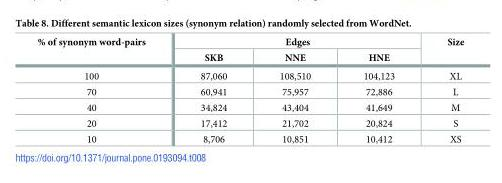table: (36, 36, 463, 144)
table column: (36, 36, 172, 144), (252, 36, 336, 144), (336, 36, 420, 144), (172, 36, 252, 144), (420, 36, 463, 144)
table column header: (36, 36, 463, 66)
table row: (36, 49, 463, 66), (36, 66, 463, 83), (36, 83, 463, 99), (36, 99, 463, 115), (36, 115, 463, 131), (36, 36, 463, 49), (36, 131, 463, 144)
table spanning cell: (36, 36, 172, 66), (172, 36, 420, 49), (420, 36, 463, 66)
